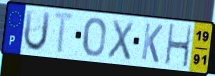H: (164, 23, 194, 69)
K: (140, 22, 164, 65)
O: (82, 16, 107, 58)
T: (51, 10, 77, 56)
U: (22, 8, 52, 53)
X: (106, 17, 136, 62)
